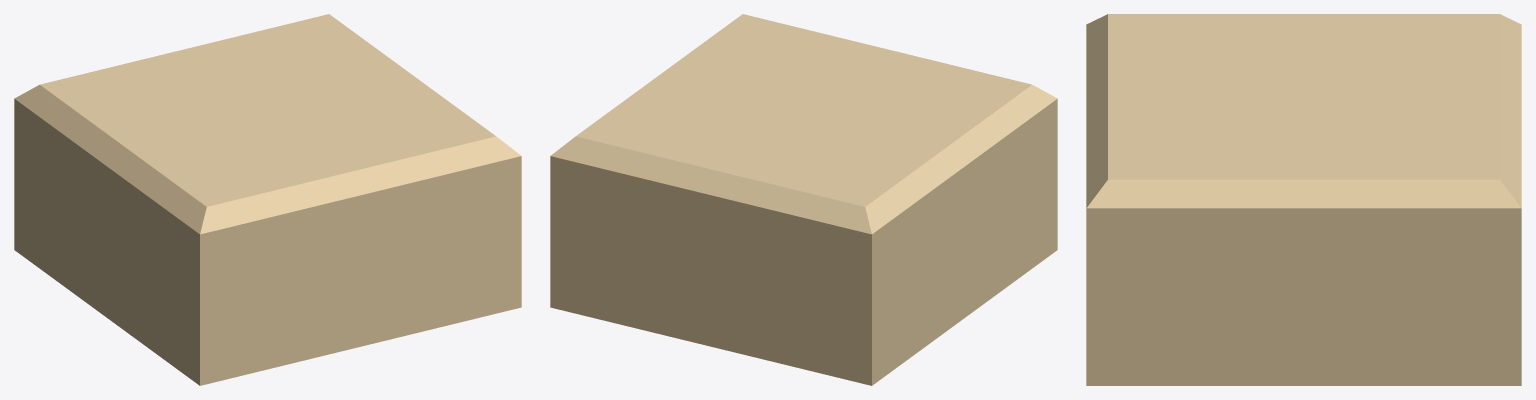
File: Buttons.fbx
3 views of the same model, side by side, from view 1: azimuth 30°, elevation 25°; view 2: azimuth 150°, elevation 25°; view 3: azimuth 270°, elevation 25° (orthographic). The views are drawn at different scales.
Visible parts, largest first — view 1: SquareButton_0.1; view 2: SquareButton_0.1; view 3: SquareButton_0.1.
Boxes of the visible parts, x1=… form: SquareButton_0.1: x1=14, y1=14, x2=521, y2=385; SquareButton_0.1: x1=550, y1=14, x2=1057, y2=385; SquareButton_0.1: x1=1086, y1=14, x2=1521, y2=385.
Size of the model in its own units: 200 by 100 by 200.
